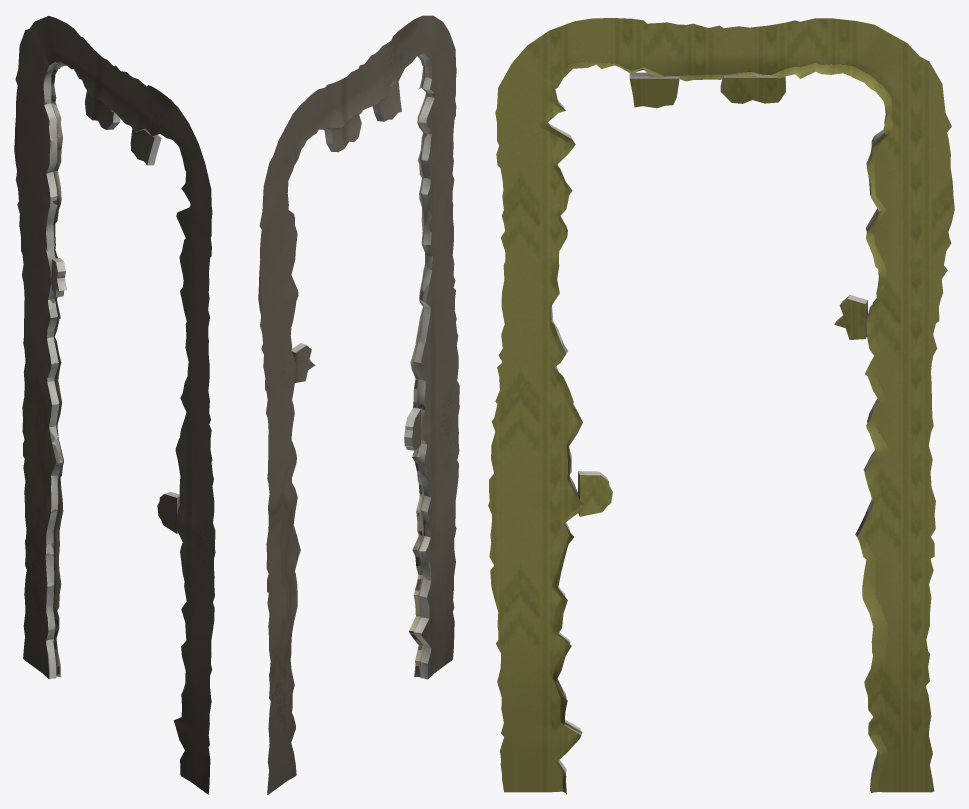
File: weak_spot_rim.glb
The picture shows the model from 3 angles, left to right: view 1: azimuth 30°, elevation 25°; view 2: azimuth 150°, elevation 25°; view 3: azimuth 270°, elevation 25°; orthographic projection. The views are drawn at different scales.
Visible parts, largest first — view 1: Rim; view 2: Rim; view 3: Rim.
Boxes of the visible parts, left/top/right/bottom form: Rim: left=14, top=16, right=215, bottom=794; Rim: left=258, top=15, right=459, bottom=794; Rim: left=488, top=18, right=954, bottom=794.
Bounding box in the file's own units: 0.0635 × 2.22 × 1.21.
2 materials, 2 textured.
